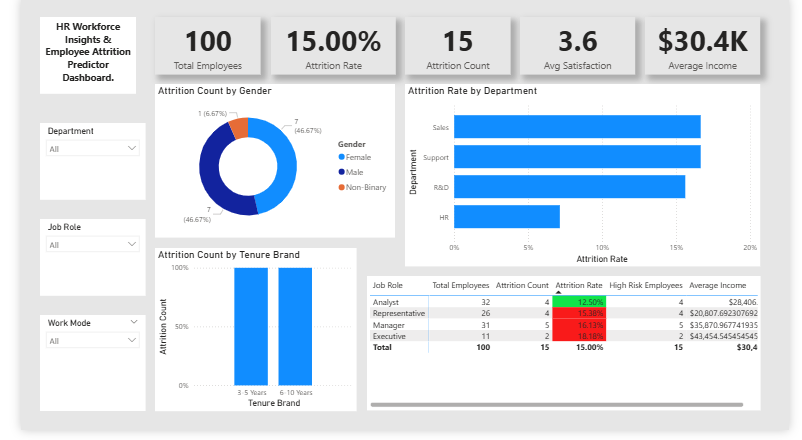

The dashboard page shown, as its layout file describes it:
{"tool":"powerbi","page":{"name":"Page 1","canvas":[1280,720],"ordinal":0},"visuals":[{"type":"card","fields":{"Values":["_Measures.Total Employees"]},"box":[224,32,176,96],"z":0},{"type":"card","fields":{"Values":["_Measures.Attrition Rate"]},"box":[416,32,208,96],"z":1000},{"type":"card","fields":{"Values":["_Measures.Attrition Count"]},"box":[640,32,176,96],"z":2000},{"type":"card","fields":{"Values":["_Measures.Avg Satisfaction"]},"box":[832,32,192,96],"z":3000},{"type":"card","fields":{"Values":["_Measures.Average Income"]},"box":[1040,32,192,96],"z":4000},{"type":"slicer","fields":{"Values":["HR_Employee_Data.Department"]},"box":[32,208,176,128],"z":5000},{"type":"slicer","fields":{"Values":["HR_Employee_Data.Job Role"]},"box":[32,368,176,128],"z":6000},{"type":"slicer","fields":{"Values":["HR_Employee_Data.Work Mode"]},"box":[32,528,176,160],"z":7000},{"type":"donutChart","fields":{"Category":["HR_Employee_Data.Gender"],"Y":["_Measures.Attrition Count"]},"box":[224,144,400,256],"z":8000},{"type":"clusteredBarChart","fields":{"Category":["HR_Employee_Data.Department"],"Y":["_Measures.Attrition Rate"]},"box":[640,144,592,304],"z":9000},{"type":"hundredPercentStackedColumnChart","fields":{"Category":["HR_Employee_Data.Tenure Brand"],"Y":["_Measures.Attrition Count"]},"box":[224,416,336,272],"z":10000},{"type":"pivotTable","fields":{"Rows":["HR_Employee_Data.Job Role"],"Values":["_Measures.Total Employees","_Measures.Attrition Count","_Measures.Attrition Rate","_Measures.High Risk Employees","_Measures.Average Income"]},"box":[576,464,656,224],"z":11000},{"type":"textbox","box":[32,32,160,128],"z":11001}]}

Visuals, with their boxes in screenshot pixels (x1, y1, x2, y2), scaled from the page's 1280x720 canvas onto the 802x440 screenshot:
card - _Measures.Total Employees: 140/20/251/78
card - _Measures.Attrition Rate: 261/20/391/78
card - _Measures.Attrition Count: 401/20/511/78
card - _Measures.Avg Satisfaction: 521/20/642/78
card - _Measures.Average Income: 652/20/772/78
slicer - HR_Employee_Data.Department: 20/127/130/205
slicer - HR_Employee_Data.Job Role: 20/225/130/303
slicer - HR_Employee_Data.Work Mode: 20/323/130/420
donutChart - HR_Employee_Data.Gender x _Measures.Attrition Count: 140/88/391/244
clusteredBarChart - HR_Employee_Data.Department x _Measures.Attrition Rate: 401/88/772/274
hundredPercentStackedColumnChart - HR_Employee_Data.Tenure Brand x _Measures.Attrition Count: 140/254/351/420
pivotTable - HR_Employee_Data.Job Role x _Measures.Total Employees: 361/284/772/420
textbox: 20/20/120/98
